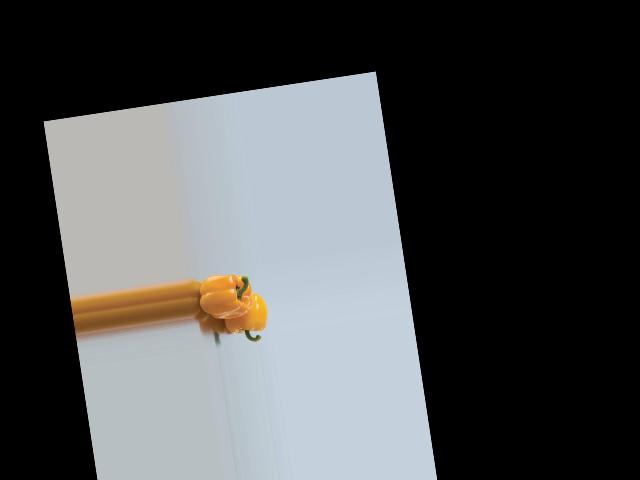bell_pepper: (213, 290, 271, 346)
